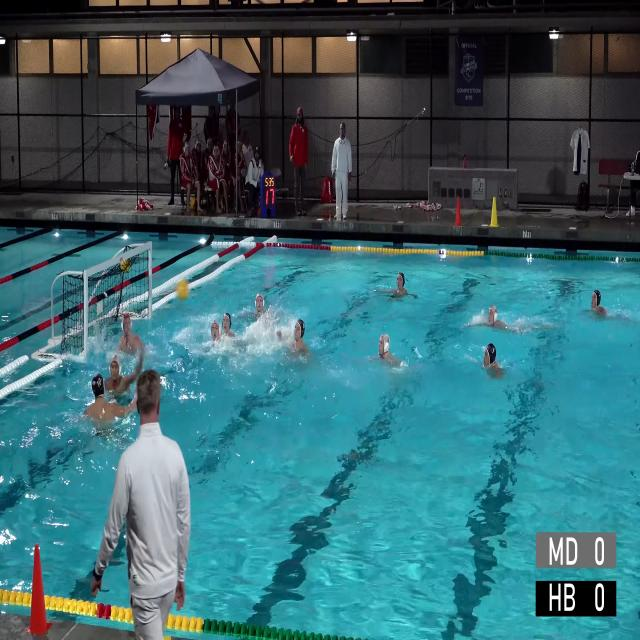ball: (176, 280, 188, 300), (120, 258, 130, 272), (190, 197, 198, 210)
